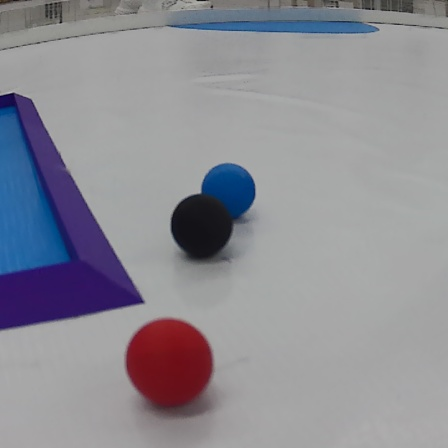black: (162, 189, 237, 267)
blue: (198, 156, 258, 221)
blue_aim: (2, 79, 147, 362)
red: (118, 311, 218, 415)
